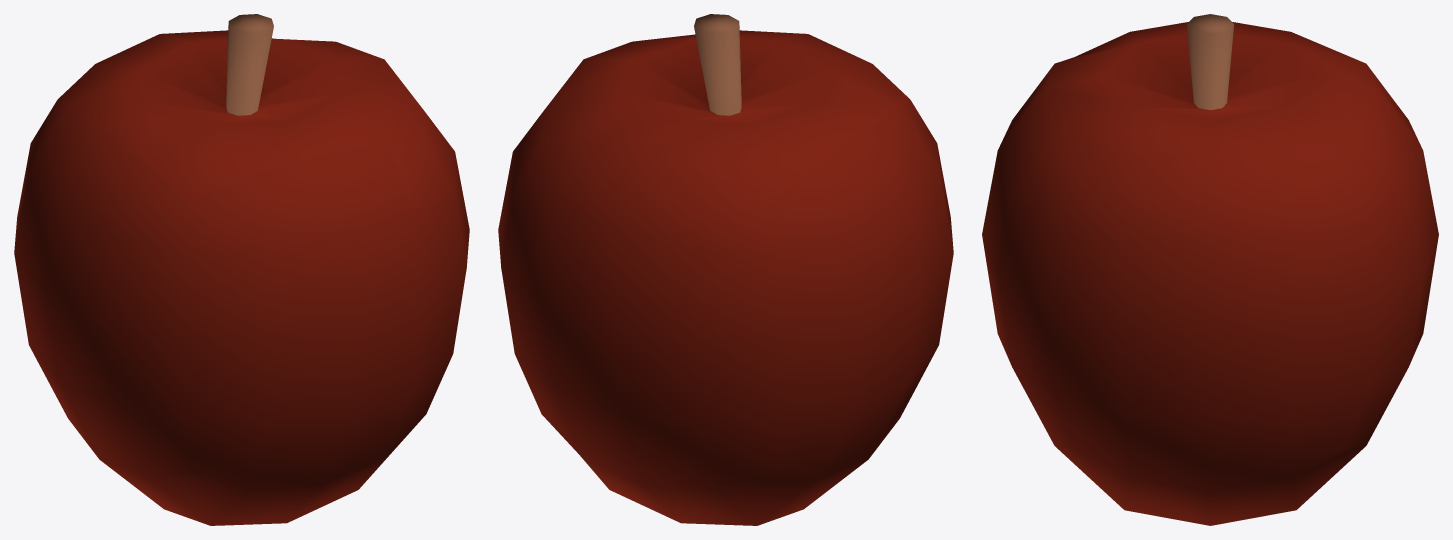
File: Apple_Red2.glb
3 views of the same model, side by side, from view 1: azimuth 30°, elevation 25°; view 2: azimuth 150°, elevation 25°; view 3: azimuth 270°, elevation 25° (orthographic).
Visible parts, largest first — view 1: Apple_Red_2; view 2: Apple_Red_2; view 3: Apple_Red_2.
Part boxes in pixels (<box>): Apple_Red_2: <box>14,14,469,525</box>; Apple_Red_2: <box>498,14,953,525</box>; Apple_Red_2: <box>982,14,1438,525</box>.
Bounding box in the file's own units: 0.084 × 0.0949 × 0.084.
1 material, 1 textured.
